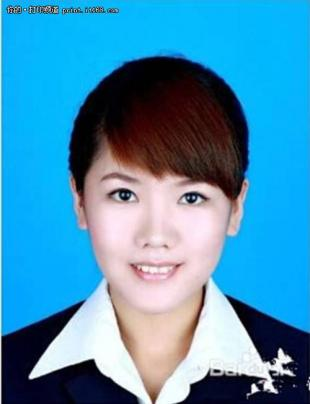unmask: (87, 150, 236, 307)
